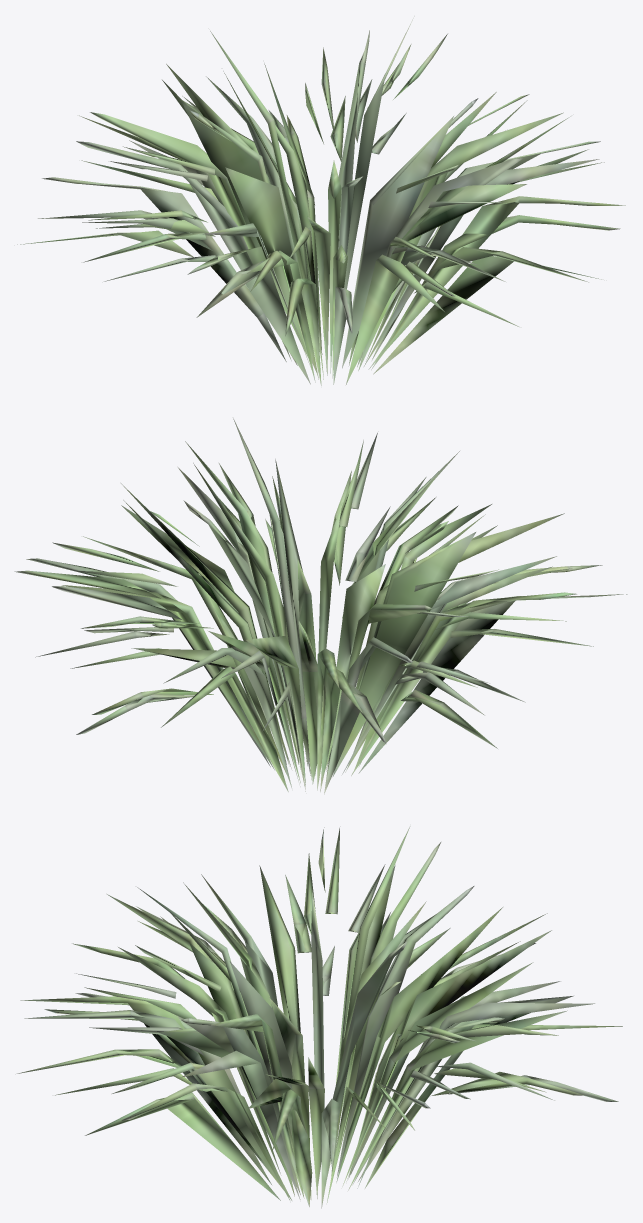
File: grass.glb
3 views of the same model, one above another, from view 1: azimuth 30°, elevation 25°; view 2: azimuth 150°, elevation 25°; view 3: azimuth 270°, elevation 25° (orthographic).
Parts seen in each view (by area): view 1: grass-clump_body; view 2: grass-clump_body; view 3: grass-clump_body.
Part boxes in pixels (bbox=[...]): grass-clump_body: bbox=[17, 16, 625, 385]; grass-clump_body: bbox=[14, 418, 627, 794]; grass-clump_body: bbox=[17, 826, 622, 1208].
Size of the model in its own units: 0.6573 by 0.3881 by 0.6354.
Materials: 1 (1 with a texture image).
